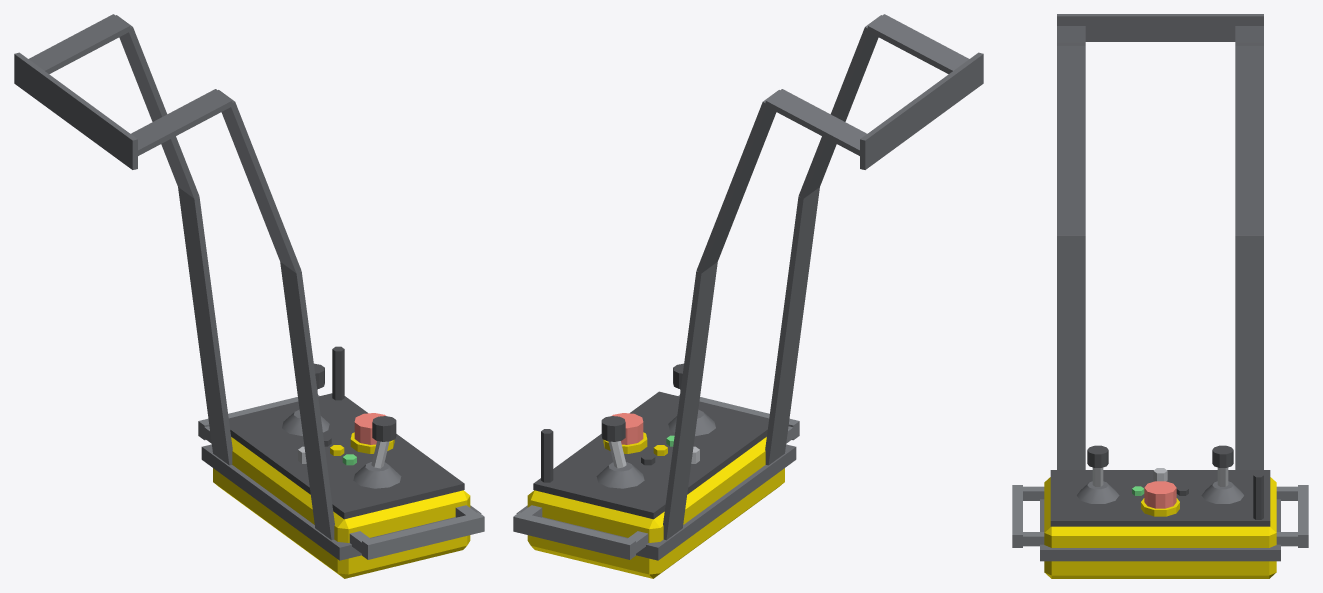
Rendered from controle_remoto_medio.glb.
3 renders of one model, left to right at view 1: azimuth 30°, elevation 25°; view 2: azimuth 150°, elevation 25°; view 3: azimuth 270°, elevation 25°, orthographic. The views are drawn at different scales.
Parts seen in each view (by area): view 1: corpo, alca; view 2: corpo, alca; view 3: alca, corpo.
Part boxes in pixels (x1,y1,x2,y2): corpo: [198, 346, 484, 578]; alca: [14, 14, 334, 540]; corpo: [513, 363, 799, 578]; alca: [663, 14, 983, 540]; alca: [1057, 14, 1263, 469]; corpo: [1012, 445, 1308, 578].
Size of the model in its own units: 0.383 by 0.5429 by 0.332.
